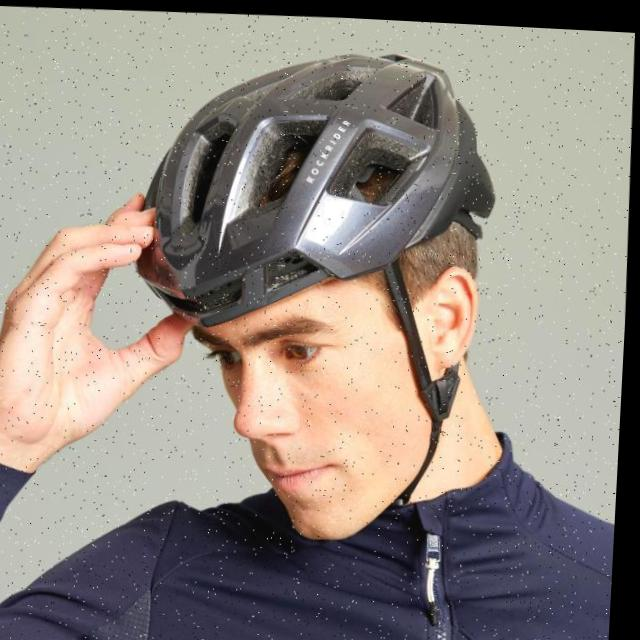helmet: (126, 37, 510, 546)
